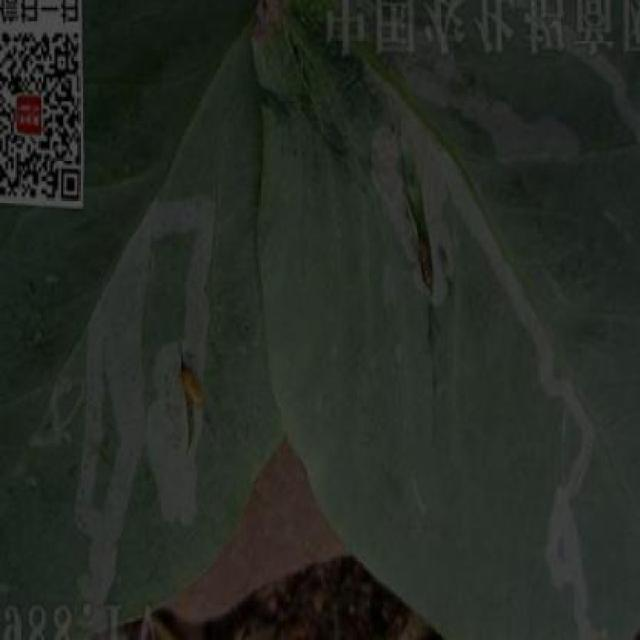whorl-maggot: (175, 353, 207, 419), (415, 230, 439, 302)
